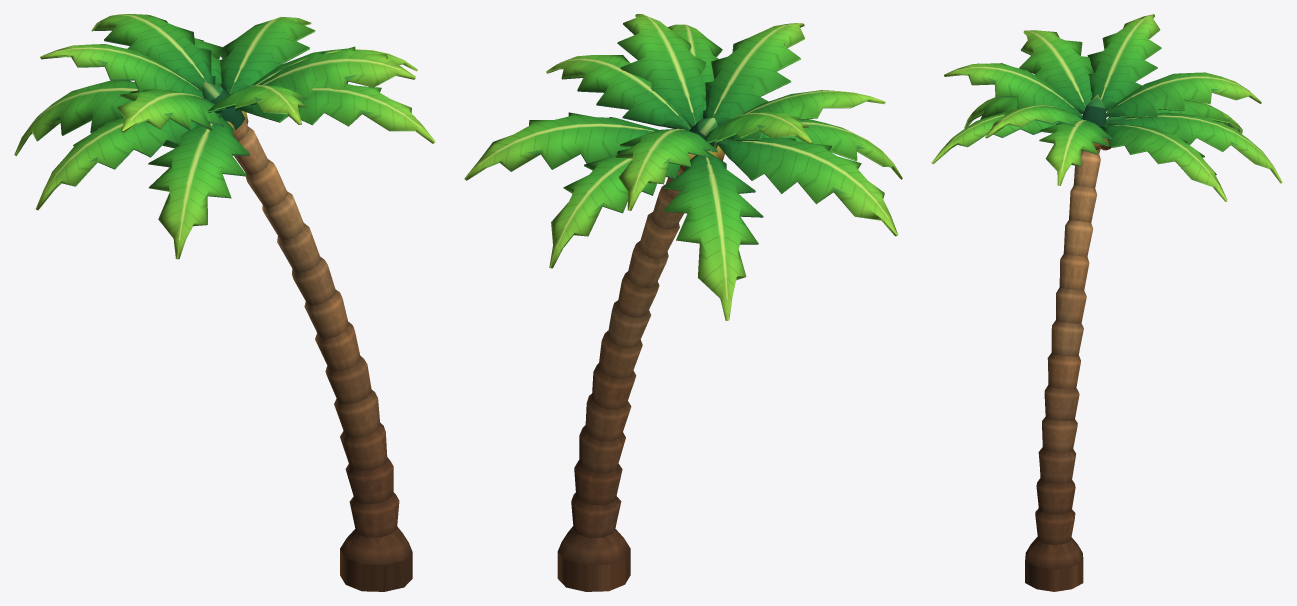
File: Tree_Palm_Tall_Curved_01.fbx
3 views of the same model, side by side, from view 1: azimuth 30°, elevation 25°; view 2: azimuth 150°, elevation 25°; view 3: azimuth 270°, elevation 25° (orthographic). The views are drawn at different scales.
Visible parts, largest first — view 1: Tree_Palm_Tall_Curved_01; view 2: Tree_Palm_Tall_Curved_01; view 3: Tree_Palm_Tall_Curved_01.
Boxes of the visible parts, x1,y1,x2,y2 form: Tree_Palm_Tall_Curved_01: (14, 14, 435, 591); Tree_Palm_Tall_Curved_01: (464, 14, 902, 591); Tree_Palm_Tall_Curved_01: (931, 14, 1282, 591).
Size of the model in its own units: 7.14 by 10.28 by 7.14.
1 material, 1 textured.
